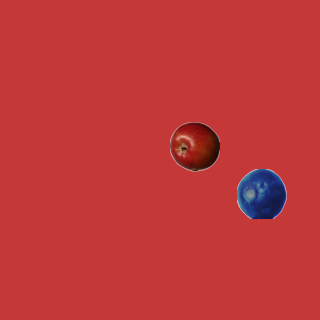Apple Braeburn: (169, 121, 219, 171)
Huckleberry: (236, 168, 286, 218)
